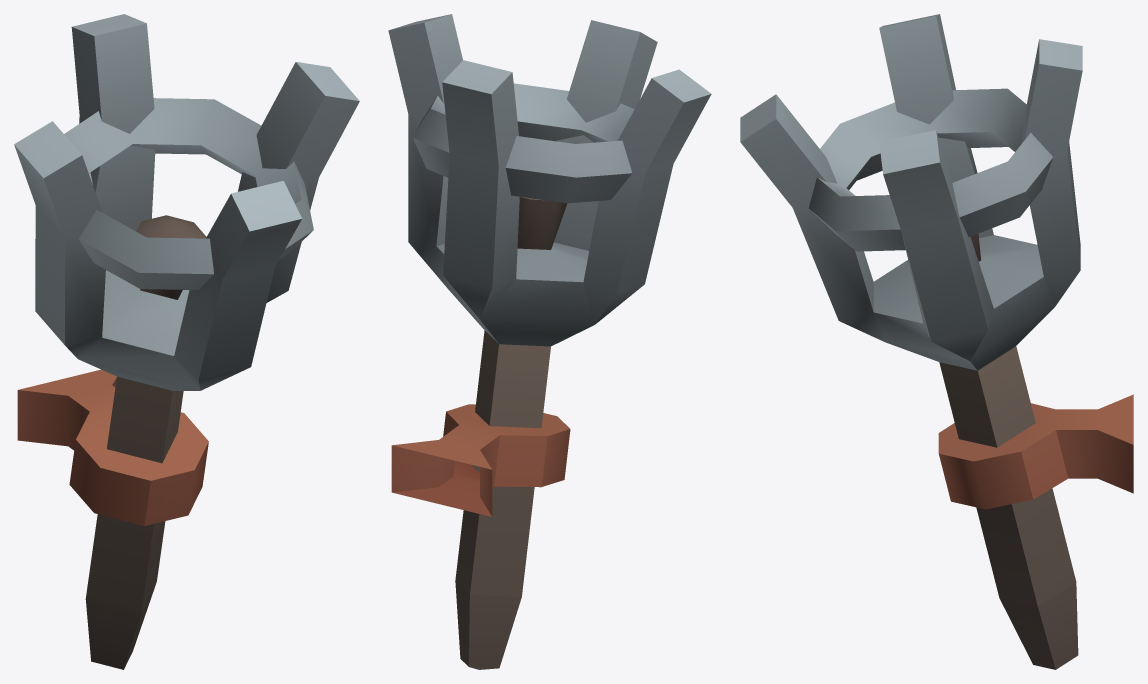
Rendered from torch_wall.fbx.
3 views of the same model, side by side, from view 1: azimuth 30°, elevation 25°; view 2: azimuth 150°, elevation 25°; view 3: azimuth 270°, elevation 25° (orthographic). The views are drawn at different scales.
Visible parts, largest first — view 1: torch_mounted; view 2: torch_mounted; view 3: torch_mounted.
Boxes of the visible parts, x1,y1,x2,y2 form: torch_mounted: (14,14,359,669); torch_mounted: (388,14,711,669); torch_mounted: (740,14,1133,669).
Size of the model in its own units: 55.03 by 106 by 61.58.
Materials: 1 (1 with a texture image).
